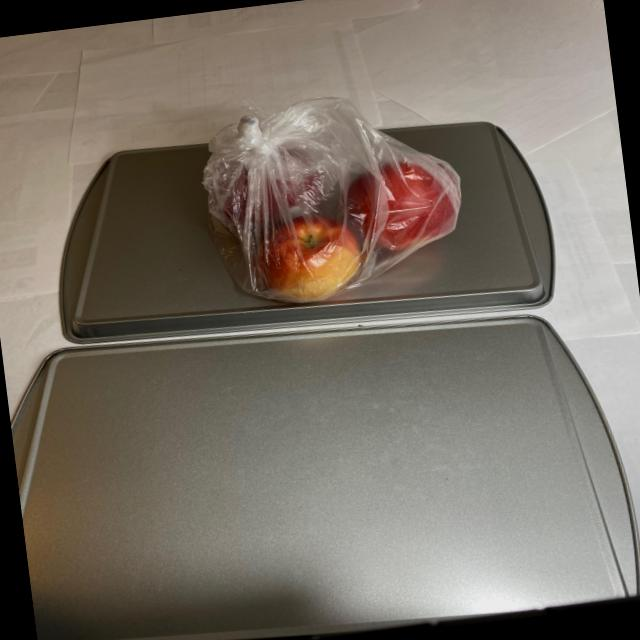apple: (210, 122, 478, 309)
